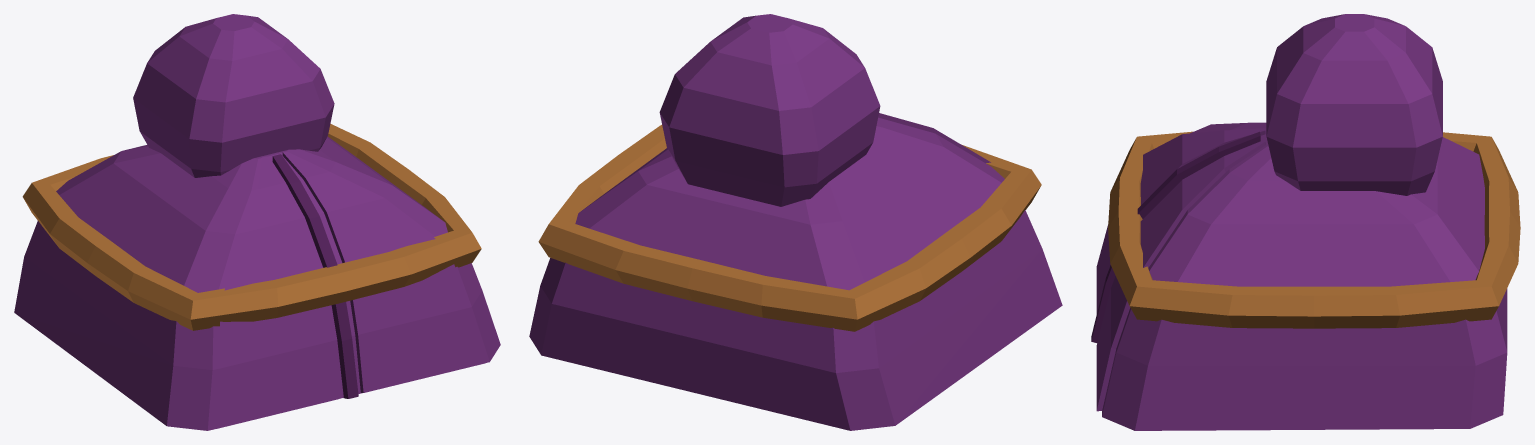
File: hair_girl_halo_updo_01.glb
3 views of the same model, side by side, from view 1: azimuth 30°, elevation 25°; view 2: azimuth 150°, elevation 25°; view 3: azimuth 270°, elevation 25° (orthographic). The views are drawn at different scales.
Visible parts, largest first — view 1: HaloUpdo_Cap, HaloUpdo_Geometric_Bun, HaloUpdo_Faceted_Halo, HaloUpdo_CenterPart_R, HaloUpdo_CenterPart_L, HaloUpdo_CenterPart_Seam; view 2: HaloUpdo_Cap, HaloUpdo_Geometric_Bun, HaloUpdo_Faceted_Halo, HaloUpdo_CenterPart_L; view 3: HaloUpdo_Cap, HaloUpdo_Geometric_Bun, HaloUpdo_Faceted_Halo, HaloUpdo_CenterPart_R, HaloUpdo_CenterPart_L, HaloUpdo_CenterPart_Seam.
Boxes of the visible parts, x1=… form: HaloUpdo_Cap: x1=14, y1=136, x2=500, y2=430; HaloUpdo_Geometric_Bun: x1=133, y1=14, x2=334, y2=177; HaloUpdo_Faceted_Halo: x1=22, y1=123, x2=481, y2=330; HaloUpdo_CenterPart_R: x1=282, y1=151, x2=485, y2=392; HaloUpdo_CenterPart_L: x1=216, y1=156, x2=338, y2=428; HaloUpdo_CenterPart_Seam: x1=272, y1=154, x2=358, y2=398; HaloUpdo_Cap: x1=529, y1=117, x2=1062, y2=430; HaloUpdo_Geometric_Bun: x1=659, y1=14, x2=880, y2=206; HaloUpdo_Faceted_Halo: x1=538, y1=125, x2=1041, y2=331; HaloUpdo_CenterPart_L: x1=878, y1=113, x2=990, y2=163; HaloUpdo_Cap: x1=1102, y1=122, x2=1507, y2=430; HaloUpdo_Geometric_Bun: x1=1266, y1=14, x2=1442, y2=195; HaloUpdo_Faceted_Halo: x1=1108, y1=131, x2=1520, y2=328; HaloUpdo_CenterPart_R: x1=1096, y1=139, x2=1265, y2=411; HaloUpdo_CenterPart_L: x1=1096, y1=128, x2=1265, y2=313; HaloUpdo_CenterPart_Seam: x1=1091, y1=131, x2=1260, y2=342.
Size of the model in its own units: 0.322 by 0.2697 by 0.326.
